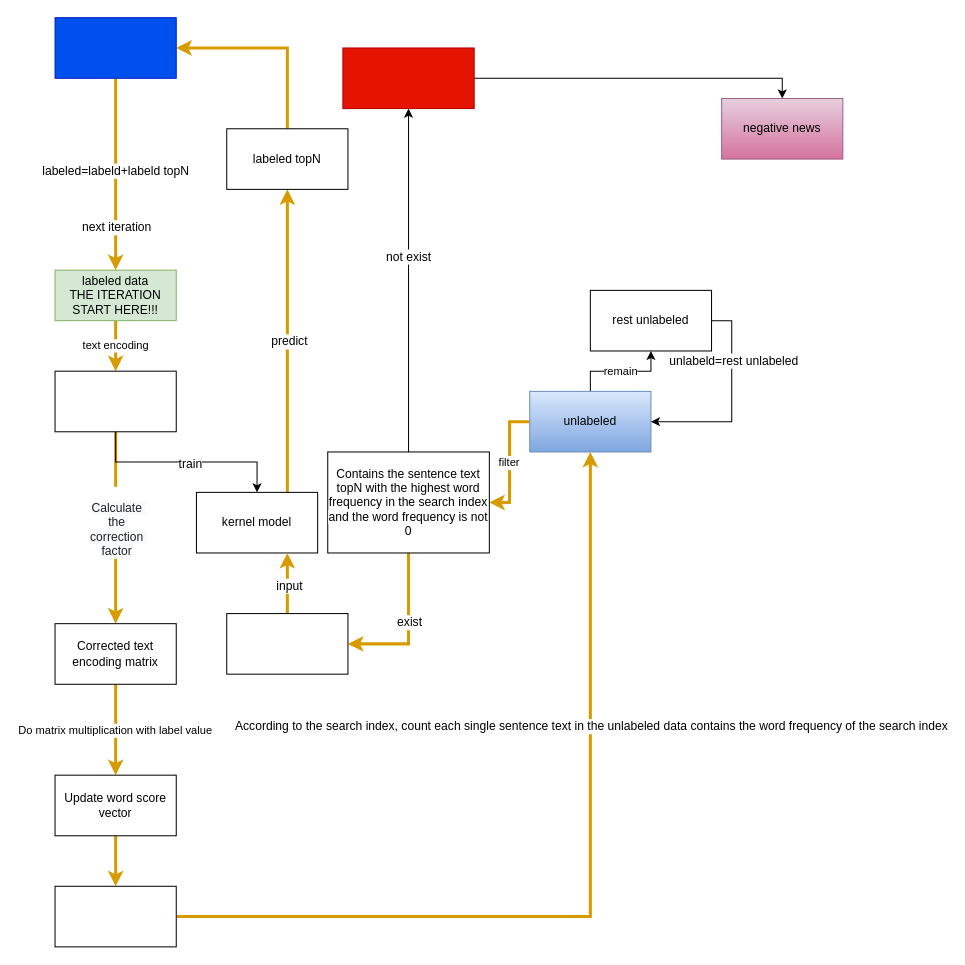
This 965x965 diagram has some shape labels left out. The shapes that lost their labels are listed below. From the top down, each one's centre as x and y in pixels, then its label:
At [115,47]: "Modify each round of pseudo-labels according to the pre-trained lexicon".
At [408,78]: "stop iteration".
At [115,401]: "text encoding matrix".
At [287,643]: "topN".
At [115,916]: "Set words with negative scores as search indexes".
